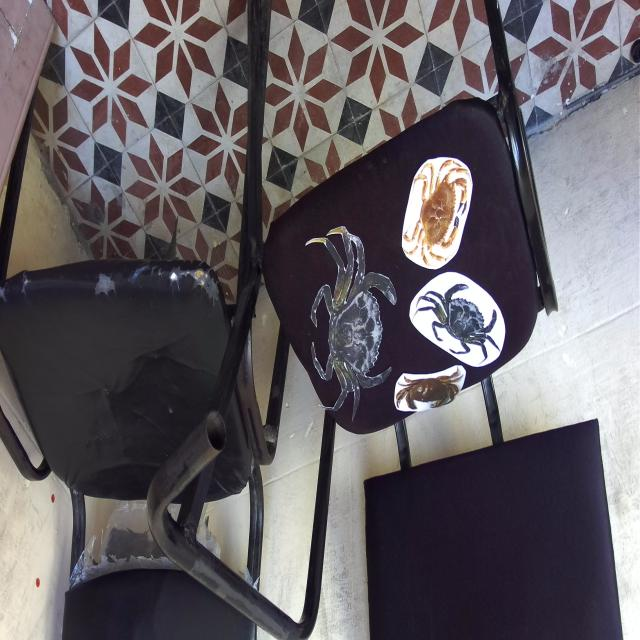European_Green_Crab: (305, 218, 403, 429), (412, 255, 510, 386)
